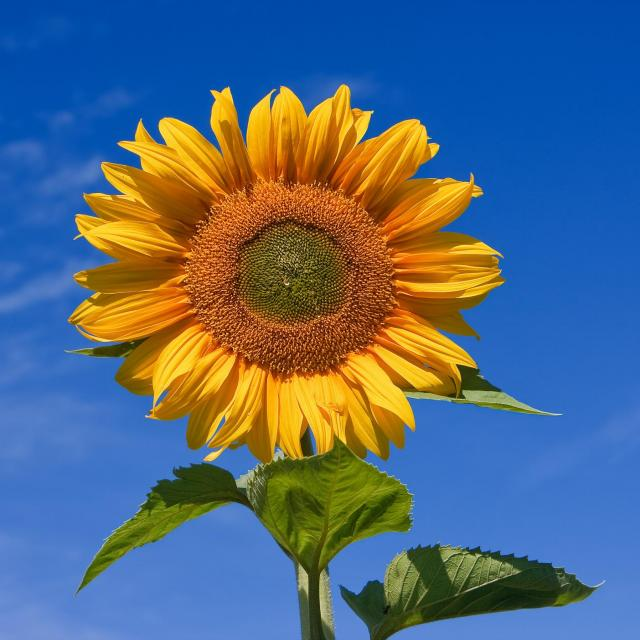organic waste: (63, 92, 514, 456)
